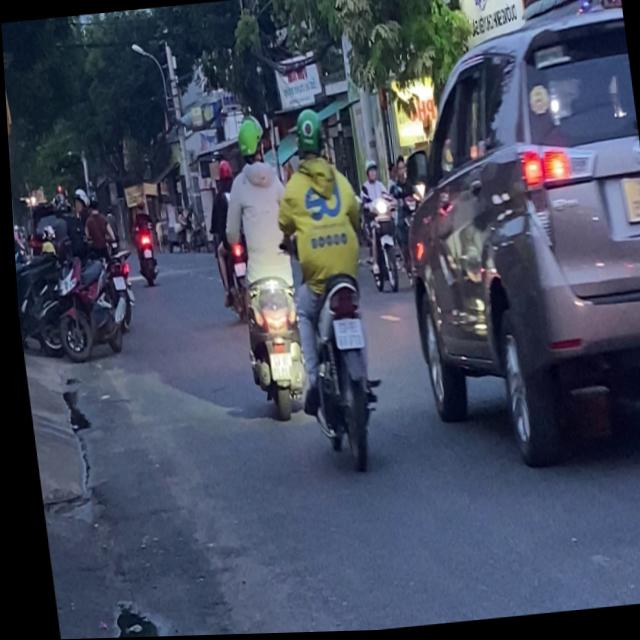helmet: (288, 107, 326, 163), (231, 115, 265, 167)
licenseplate: (260, 101, 388, 475), (208, 111, 309, 421)
nohelmet: (328, 318, 359, 350), (263, 353, 288, 382)
